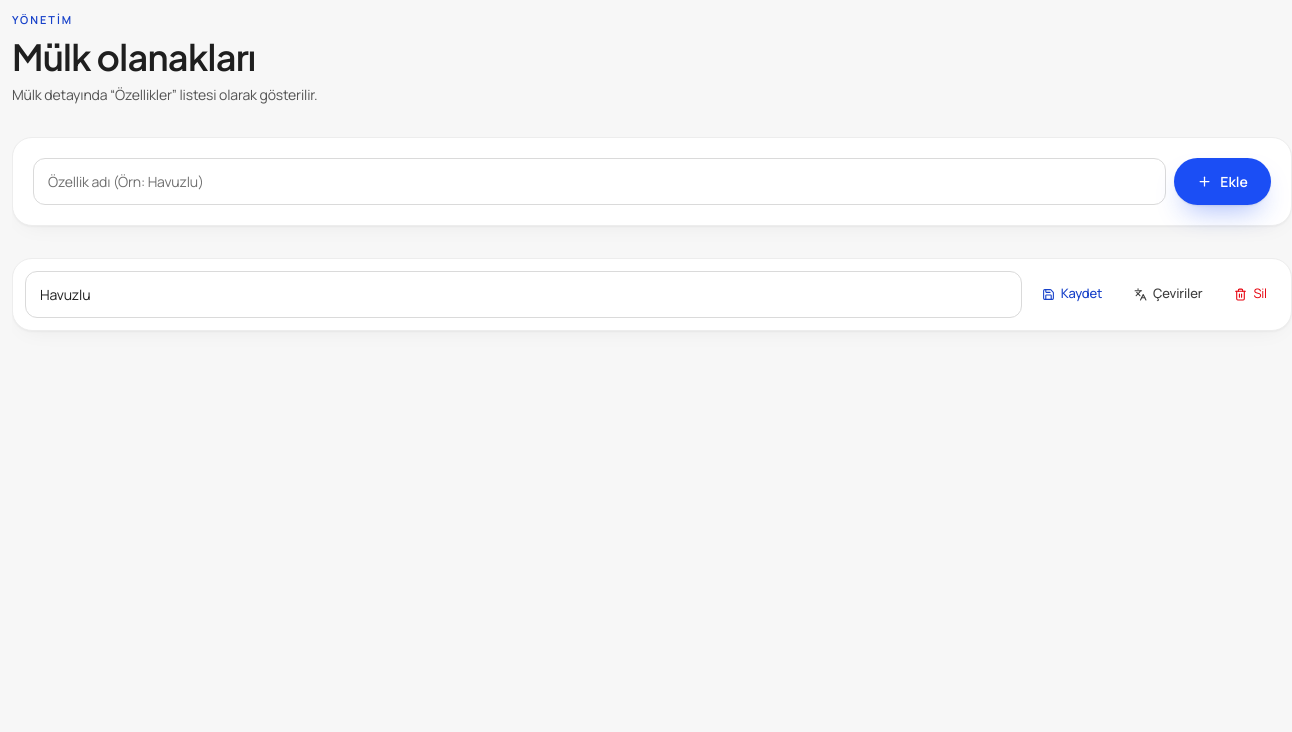
it: FeaturesPage — Phase 10D Batch 2 — mevcut çeviri yükleme › 7) Mevcut DE çevirisi input'a yüklenir
Click the button with aria-label "çevirileri" at (1168, 294), box top-left (1122, 276), bottom-right (1214, 312)
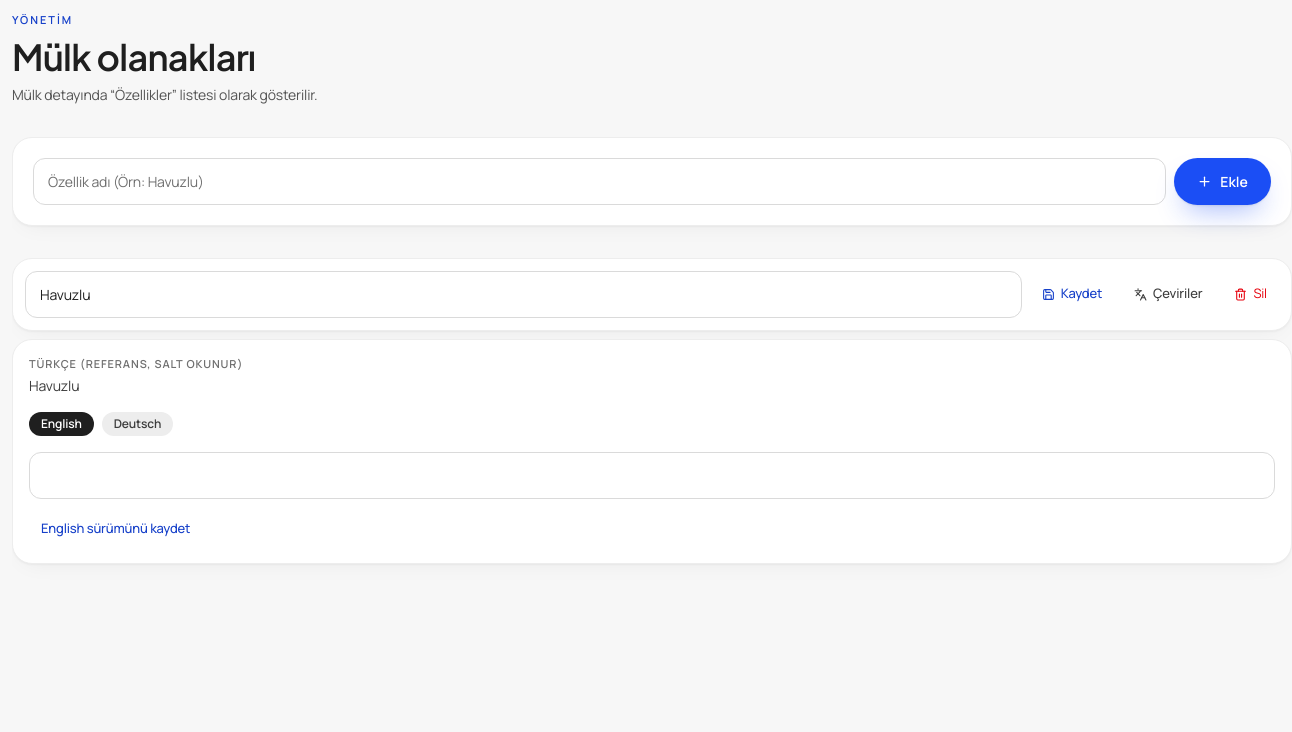
Expected: the field named "English" is shown, top-left (29, 452), bottom-right (1275, 499)
Click the button "Deutsch" at (137, 424), box top-left (102, 412), bottom-right (173, 436)
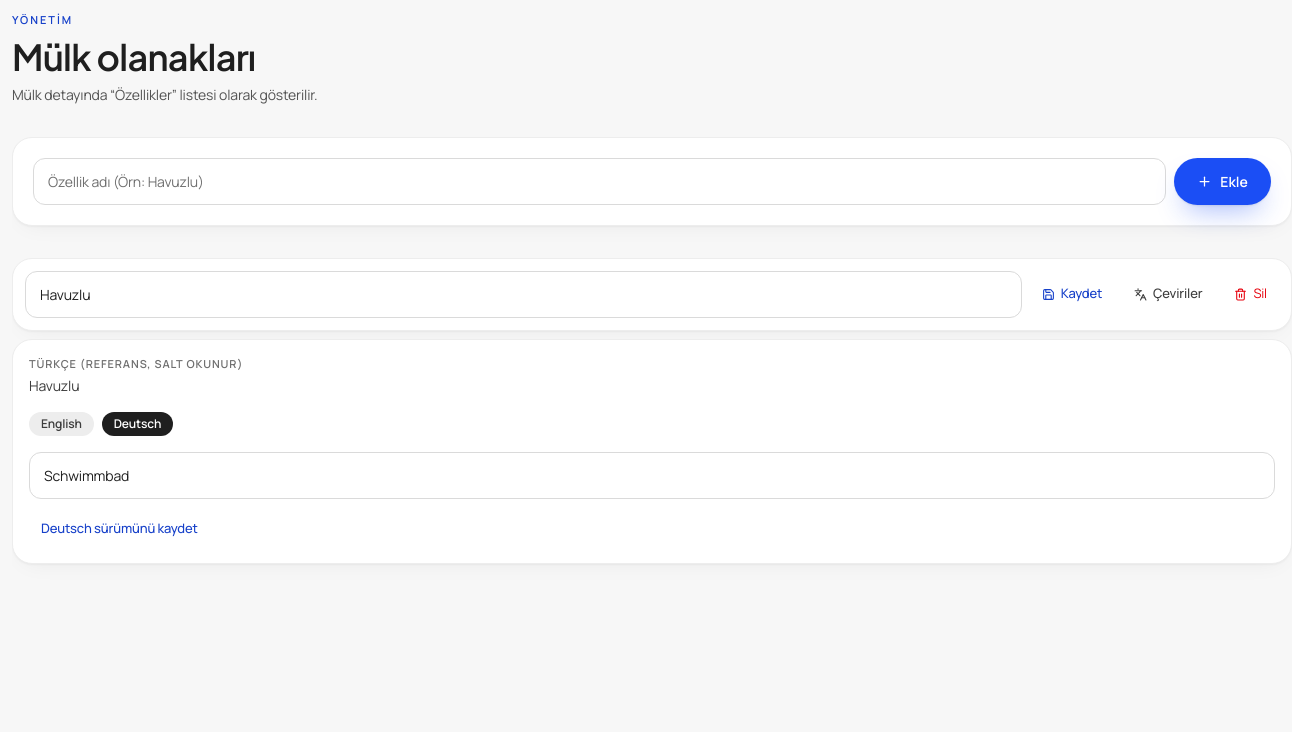
Expected: the field named "Deutsch" holds "Schwimmbad", top-left (29, 452), bottom-right (1275, 499)
